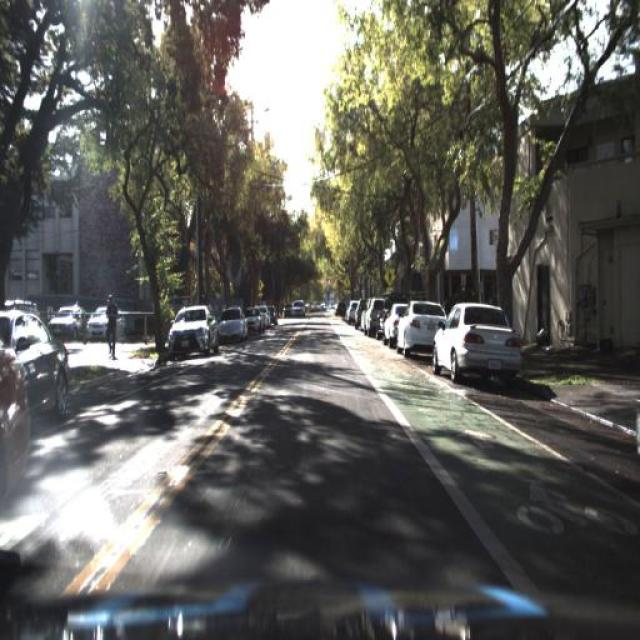car: (0, 331, 49, 525), (12, 305, 83, 433), (432, 293, 528, 385), (426, 303, 525, 376), (395, 300, 447, 360), (167, 300, 224, 354), (399, 299, 439, 362), (84, 298, 125, 347), (45, 300, 89, 344), (42, 299, 84, 342), (216, 304, 248, 354), (217, 308, 252, 346), (364, 295, 384, 337), (382, 303, 399, 345), (247, 306, 264, 338), (288, 296, 306, 322)
trafficLight: (100, 282, 120, 363), (104, 290, 122, 359)
